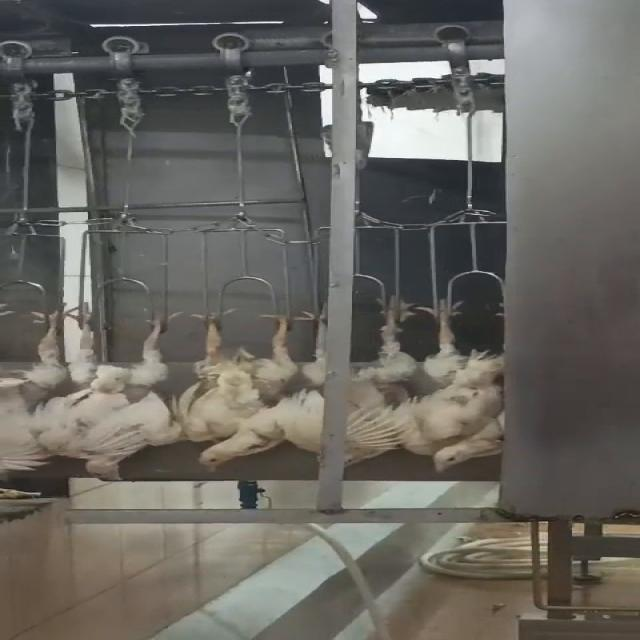chicken: (183, 302, 315, 474), (66, 303, 186, 485), (411, 291, 520, 475), (341, 294, 427, 470), (0, 291, 72, 473), (293, 304, 328, 458)
